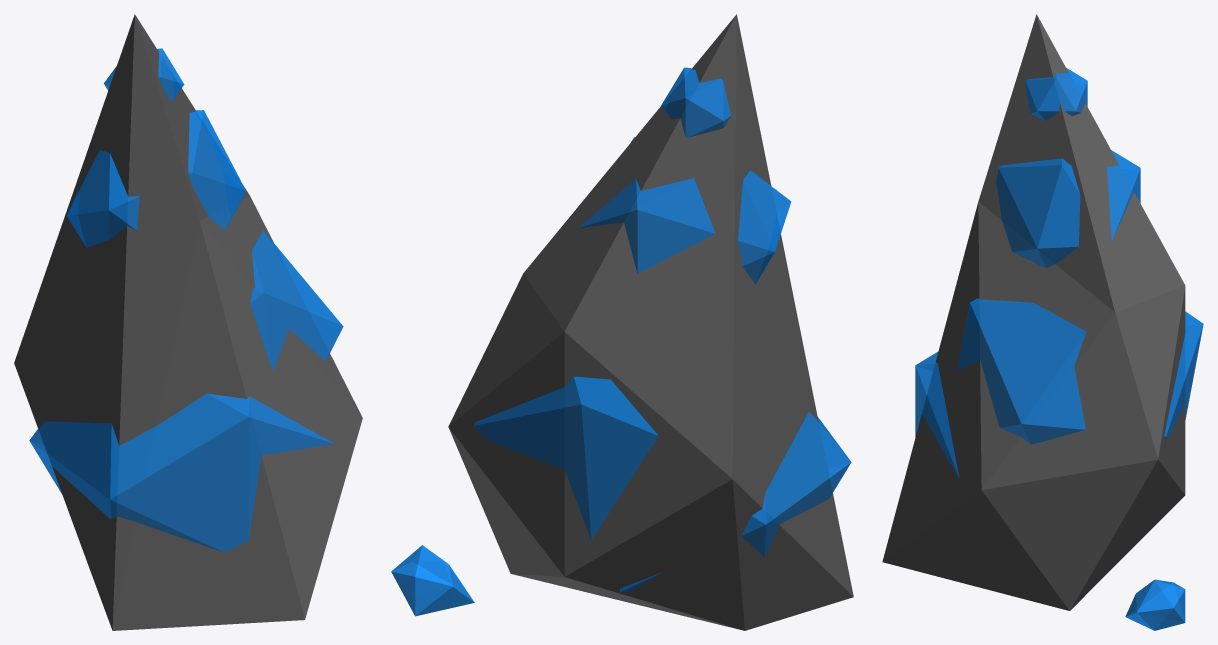
The model's file is Stone_Blue.fbx.
3 views of the same model, side by side, from view 1: azimuth 30°, elevation 25°; view 2: azimuth 150°, elevation 25°; view 3: azimuth 270°, elevation 25° (orthographic). The views are drawn at different scales.
Visible parts, largest first — view 1: Stone, Solide_platonicien, Solide_platonicien_2_2, Solide_platonicien_1, Solide_platonicien_2; view 2: Stone, Solide_platonicien_1, Solide_platonicien_2_2, Solide_platonicien, Solide_platonicien_3, Solide_platonicien_2; view 3: Stone, Solide_platonicien_1, Solide_platonicien_2_2, Solide_platonicien, Solide_platonicien_2, Solide_platonicien_3.
Part boxes in pixels (x1,y1,x2,y2): Stone: (14, 14, 362, 630); Solide_platonicien: (29, 393, 334, 552); Solide_platonicien_2_2: (66, 110, 246, 247); Solide_platonicien_1: (250, 230, 343, 371); Solide_platonicien_2: (104, 48, 184, 101); Stone: (448, 14, 853, 630); Solide_platonicien_1: (474, 376, 658, 539); Solide_platonicien_2_2: (578, 137, 791, 284); Solide_platonicien: (619, 412, 851, 592); Solide_platonicien_3: (391, 545, 474, 616); Solide_platonicien_2: (661, 67, 731, 137); Stone: (882, 14, 1185, 610); Solide_platonicien_1: (957, 298, 1203, 444); Solide_platonicien_2_2: (996, 150, 1140, 267); Solide_platonicien: (915, 352, 959, 478); Solide_platonicien_2: (1025, 67, 1087, 121); Solide_platonicien_3: (1125, 579, 1185, 630).
Bounding box in the file's own units: 143 × 245 × 139.
